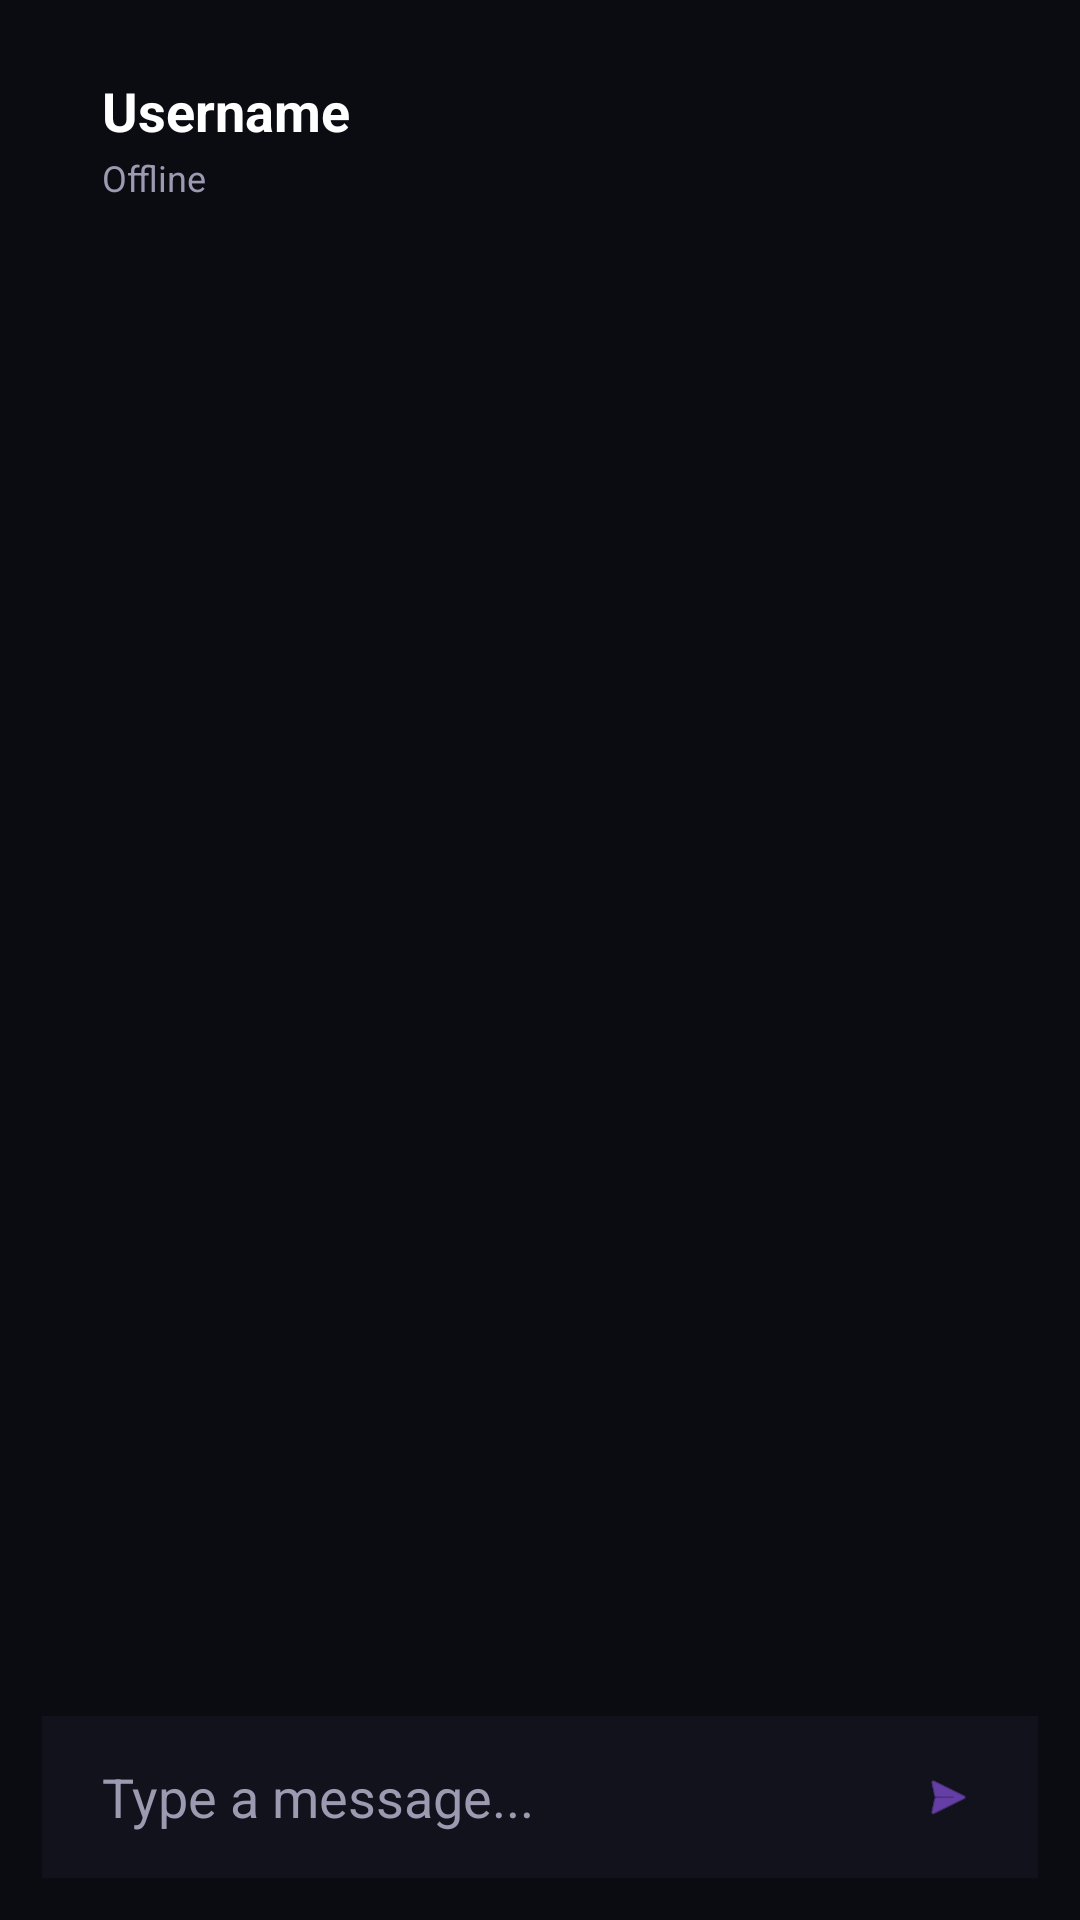

Where to tap for icons on this 1080x1920 app screen, as point (x, y):
send: point (948, 1797)
